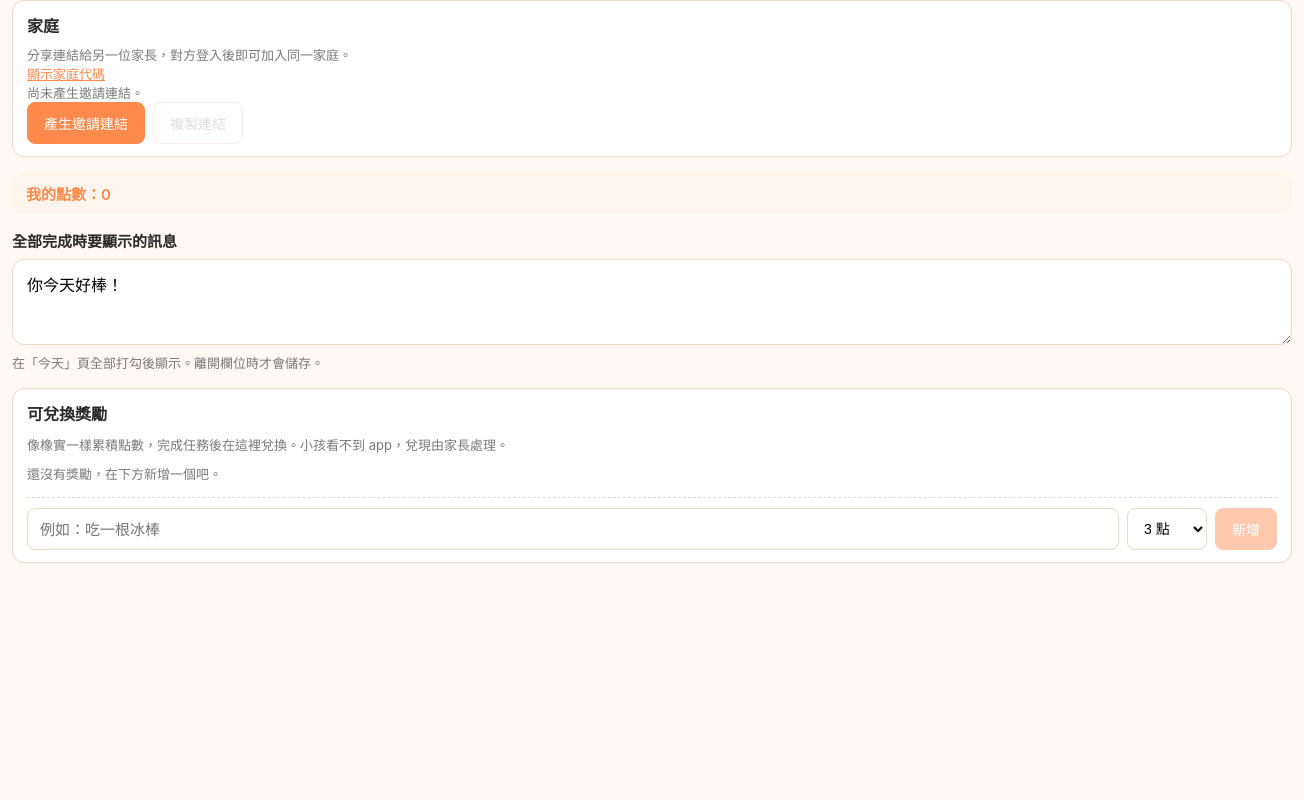
Test: SettingsPage family section › shows offline message when generating invite while offline
Click the button with test id "generate-invite-button". click: {"x": 86, "y": 123}
box: [27,102,145,144]
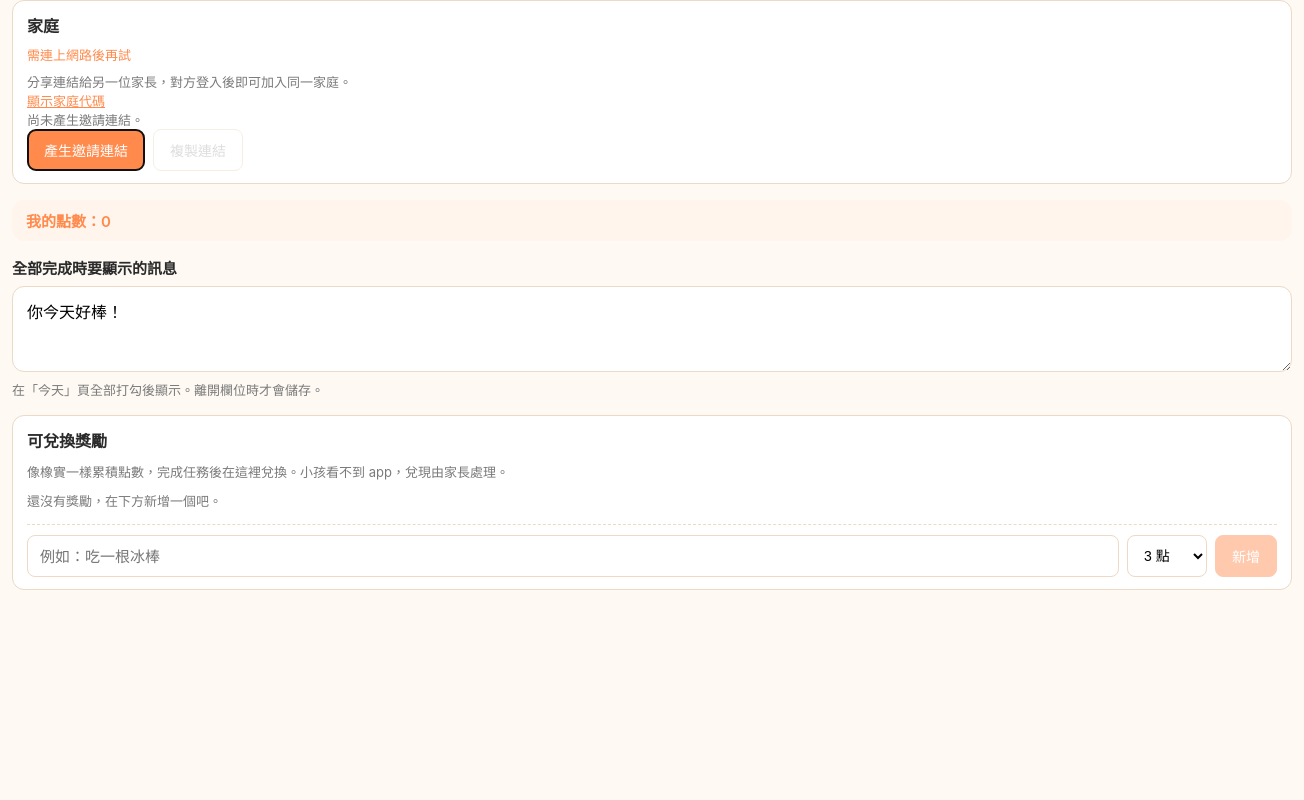
Expected: the message reads "需連上網路後再試", [27,47,131,63]
